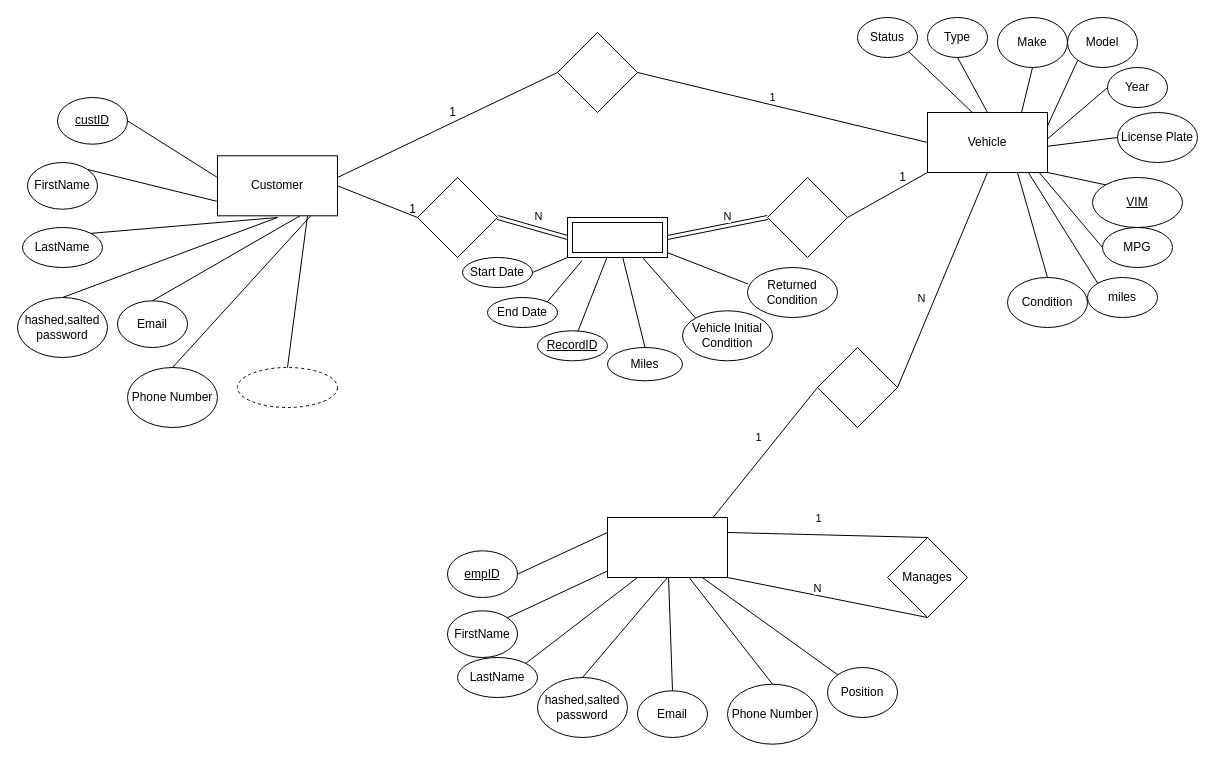
This 1215x762 diagram has some shape labels left out. Here are the shapes that lost their labels. From the top down, the centre of each, then its label:
At (x=597, y=72): "Rents".
At (x=457, y=217): "creates".
At (x=617, y=237): "Rental Record".
At (x=807, y=217): "Included".
At (x=287, y=387): "Total Rentals".
At (x=857, y=387): "Works On".
At (x=667, y=547): "Employee".
